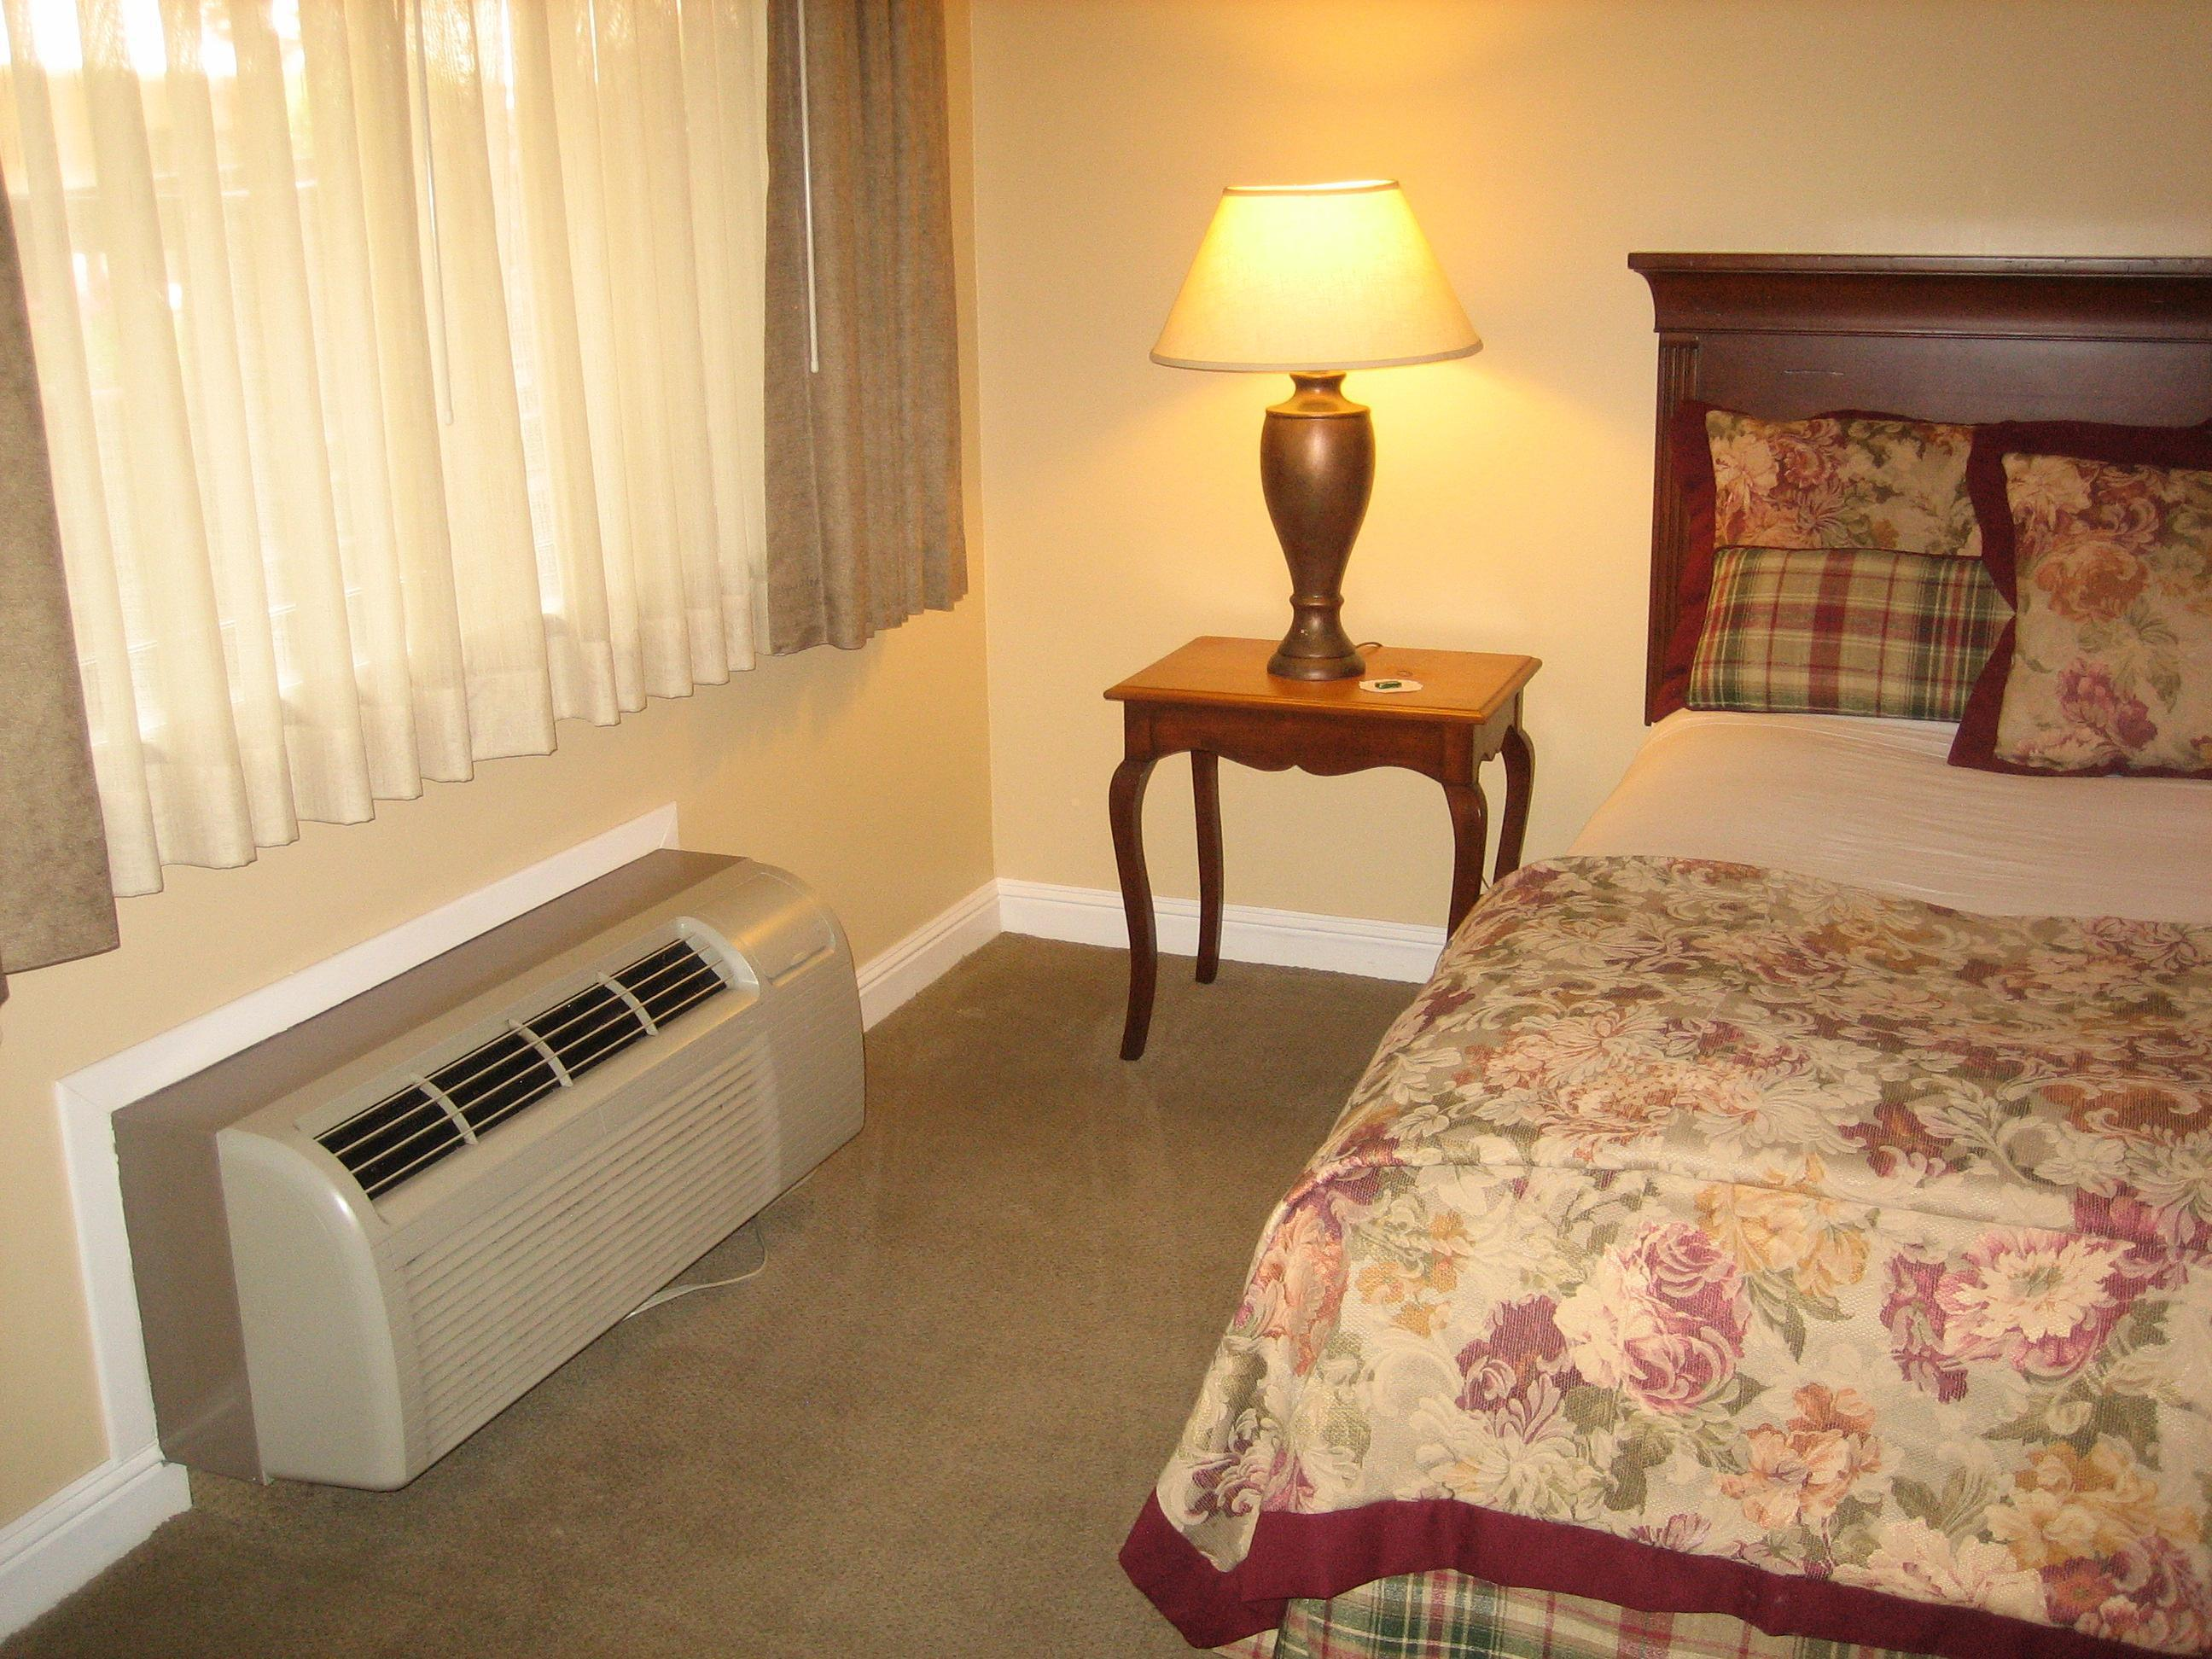Cama: (1089, 235, 2203, 1638)
Otro Obstaculo: (80, 800, 900, 1513)
Ventana: (2, 7, 974, 875)
